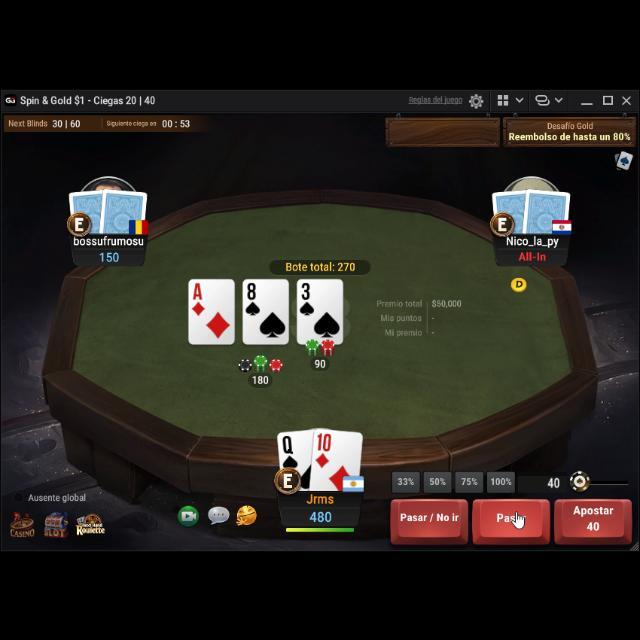2s: (298, 278, 316, 316)
3s: (299, 278, 315, 316)
8s: (244, 279, 262, 315)
Ad: (190, 280, 206, 314)
Qs: (280, 430, 300, 468)
Td: (316, 430, 332, 470)
all_in_symbol: (518, 248, 548, 260)
bet_text: (251, 374, 269, 384), (314, 358, 326, 368)
card_back: (522, 183, 572, 233), (100, 183, 148, 233), (491, 184, 534, 232), (67, 184, 109, 232)
dealer: (509, 272, 529, 290)
hero_active: (388, 493, 630, 543)
pot_text: (284, 258, 356, 270)
stack_text: (308, 504, 334, 522), (99, 247, 121, 261)
